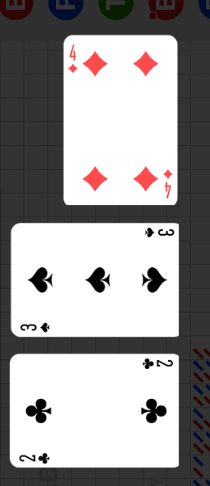2C: (140, 357, 174, 371)
3S: (142, 226, 176, 239)
4D: (67, 44, 79, 75)
